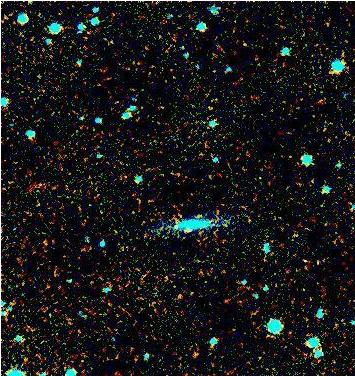star: (19, 0, 49, 20)
